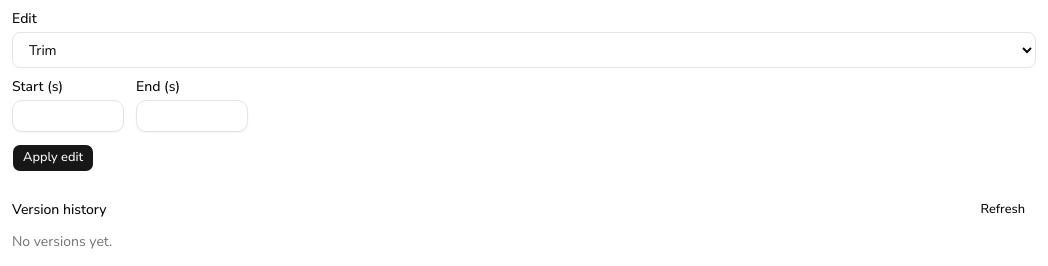
it: VideoEditor › surfaces an insufficient-credits error
Type "0" into the number field labelled "Start (s)" at (68, 116), box [12,100,124,132]
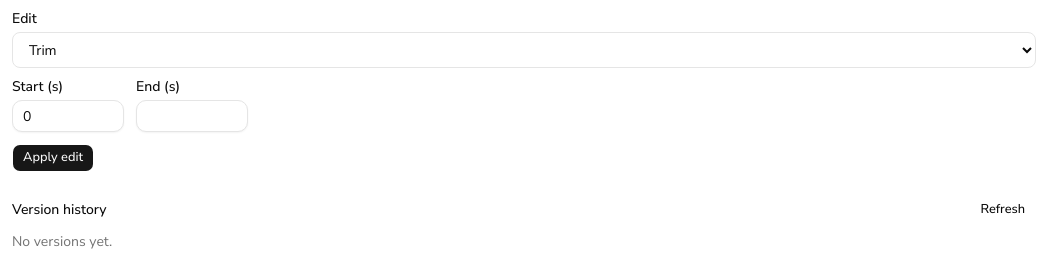
Type "5" into the number field labelled "End (s)" at (192, 116), box [136,100,248,132]
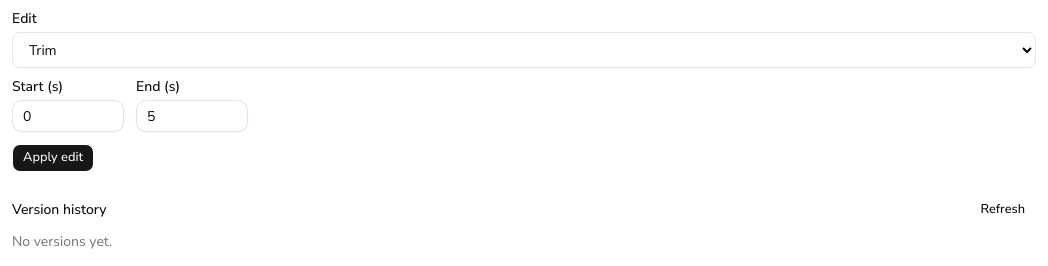
Click the button "Apply edit" at (53, 158), box [12,144,94,172]
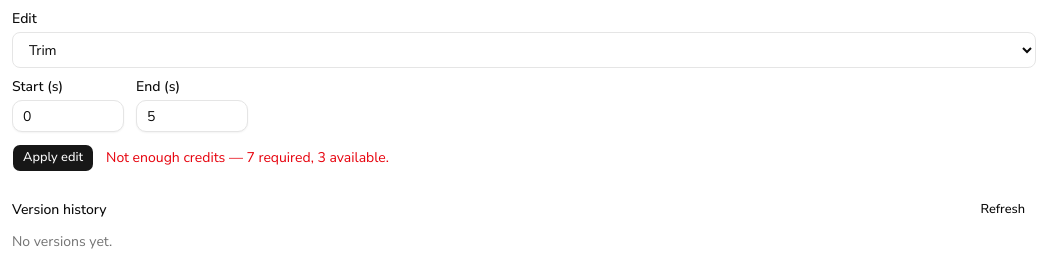
Expected: the message shows "Not enough credits", [106,148,389,167]
